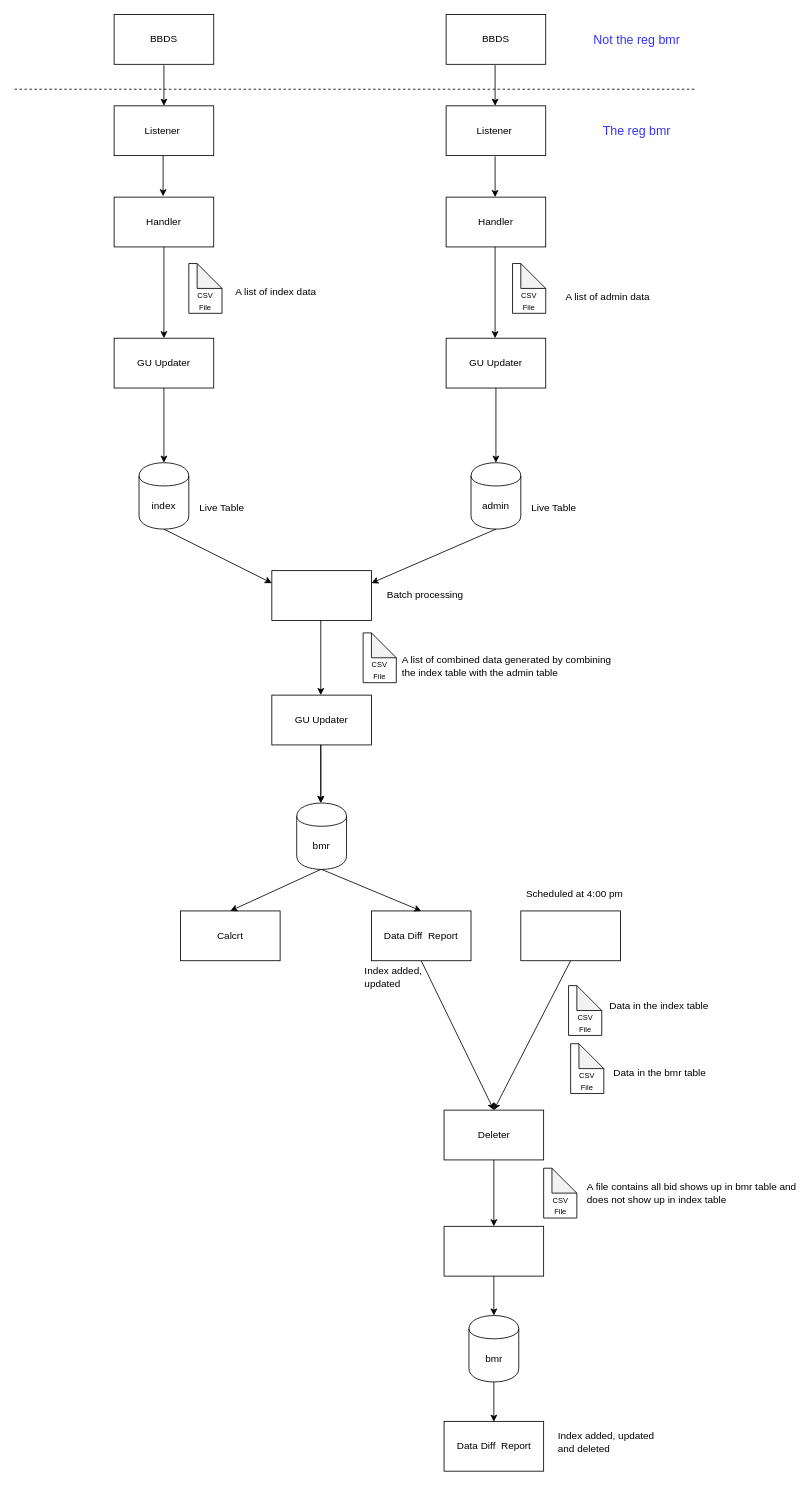
The diagram is 811 pixels wide and 1486 high, and some of its shapes have lost their labels. Each missing label, with the box of its shape:
/bin/true: (520, 910, 620, 961)
Combiner: (271, 570, 371, 620)
GU Remover: (443, 1225, 544, 1276)
